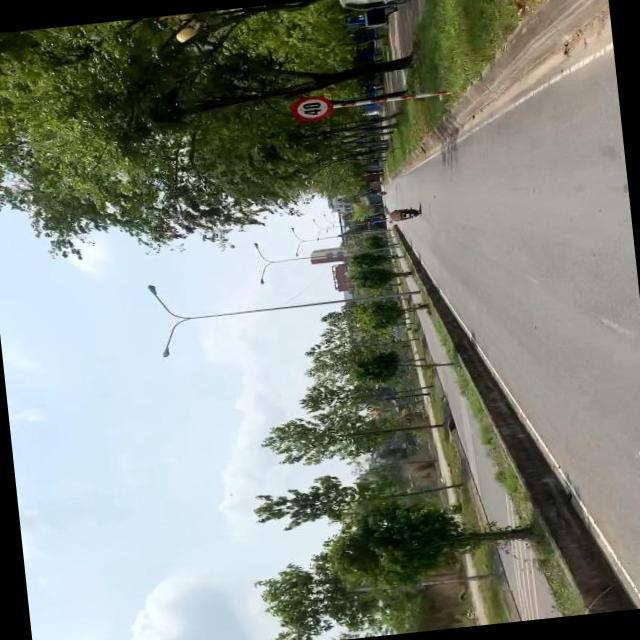P-127: (288, 92, 334, 121)
